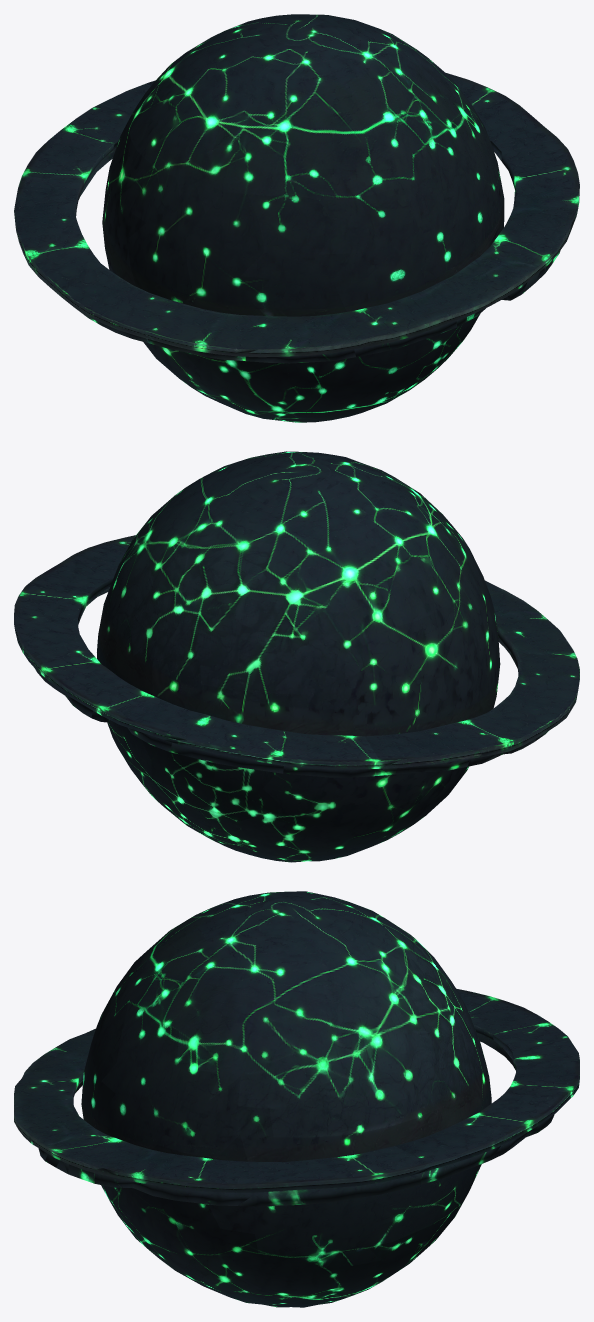
Rendered from Meshy_AI_model.glb.
3 renders of one model, top to bottom at view 1: azimuth 30°, elevation 25°; view 2: azimuth 150°, elevation 25°; view 3: azimuth 270°, elevation 25°, orthographic.
Parts seen in each view (by area): view 1: mesh_node; view 2: mesh_node; view 3: mesh_node.
Boxes of the visible parts, left/top/right/bottom form: mesh_node: left=14, top=14, right=579, bottom=422; mesh_node: left=14, top=451, right=579, bottom=862; mesh_node: left=14, top=891, right=579, bottom=1307.
Bounding box in the file's own units: 1 × 0.7402 × 1.
1 material, 1 textured.
